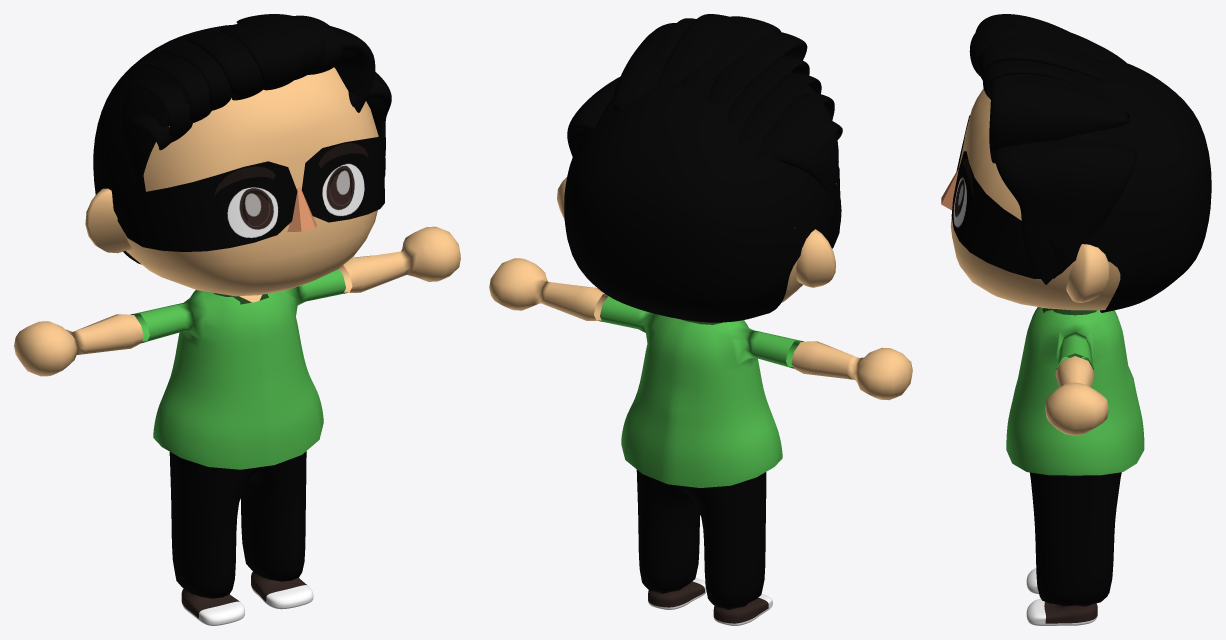
File: Kaka_Tingkat_Laki.fbx
The picture shows the model from 3 angles, left to right: view 1: azimuth 30°, elevation 25°; view 2: azimuth 150°, elevation 25°; view 3: azimuth 270°, elevation 25°; orthographic projection. The views are drawn at different scales.
Parts seen in each view (by area): view 1: Hand, Head, Eyes, Pants, Rambut, NurbsPath, NurbsPath.003, Circle, NurbsPath.006, Ear, NurbsPath.004, NurbsPath.008 (+6 smaller); view 2: Rambut, Hand, Pants, NurbsPath, NurbsPath.006, NurbsPath.004, NurbsPath.003, Circle, Ear, NurbsPath.008, NurbsPath.007, NurbsPath.010 (+2 smaller); view 3: Rambut, Hand, NurbsPath.001, Pants, NurbsPath, Head, Eyes, NurbsPath.004, Ear, Circle, NurbsPath.003, NurbsPath.006 (+1 smaller).
Boxes of the visible parts, x1,y1,x2,y2 form: Hand: (14, 226, 460, 469); Head: (124, 67, 378, 296); Eyes: (116, 135, 384, 251); Pants: (169, 451, 306, 598); Rambut: (93, 25, 385, 264); NurbsPath: (121, 26, 375, 190); NurbsPath.003: (218, 23, 306, 90); Circle: (181, 571, 313, 625); NurbsPath.006: (187, 32, 264, 100); Ear: (85, 188, 132, 253); NurbsPath.004: (236, 14, 324, 80); NurbsPath.008: (141, 60, 212, 122); Rambut: (564, 78, 841, 322); Hand: (489, 258, 912, 487); Pants: (636, 469, 766, 609); NurbsPath: (613, 23, 838, 196); NurbsPath.006: (707, 31, 807, 105); NurbsPath.004: (657, 14, 731, 89); NurbsPath.003: (681, 16, 780, 92); Circle: (648, 578, 772, 625); Ear: (557, 177, 835, 287); NurbsPath.008: (738, 73, 821, 143); NurbsPath.007: (726, 56, 809, 126); NurbsPath.010: (753, 92, 834, 161); Rambut: (1016, 57, 1211, 312); Hand: (1006, 307, 1144, 475); NurbsPath.001: (993, 140, 1136, 284); Pants: (1029, 472, 1121, 606); NurbsPath: (989, 66, 1129, 163); Head: (950, 88, 1120, 310); Eyes: (951, 115, 1065, 278); NurbsPath.004: (977, 35, 1110, 82); Ear: (1066, 244, 1109, 302); Circle: (1026, 568, 1097, 625); NurbsPath.003: (969, 23, 1102, 76); NurbsPath.006: (975, 14, 1107, 62).
Bounding box in the file's own units: 151 × 197 × 85.23.
18 materials, 1 textured.
